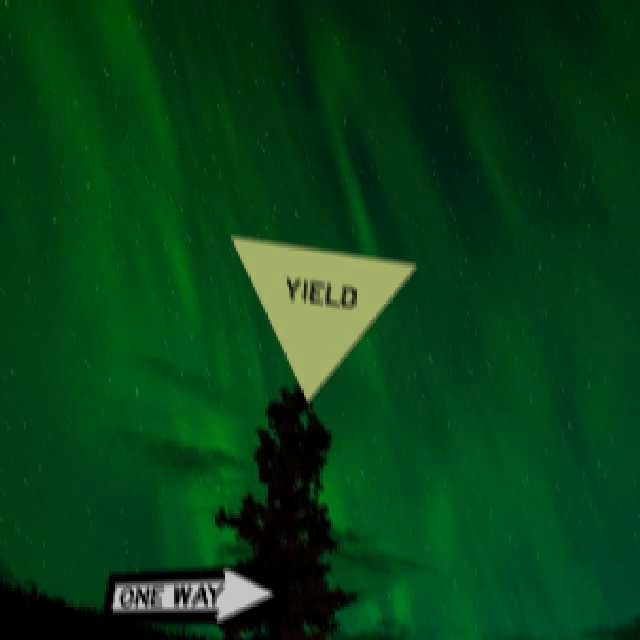ONE_WAY_ right: (99, 561, 291, 622)
YIELD: (227, 233, 419, 403)
